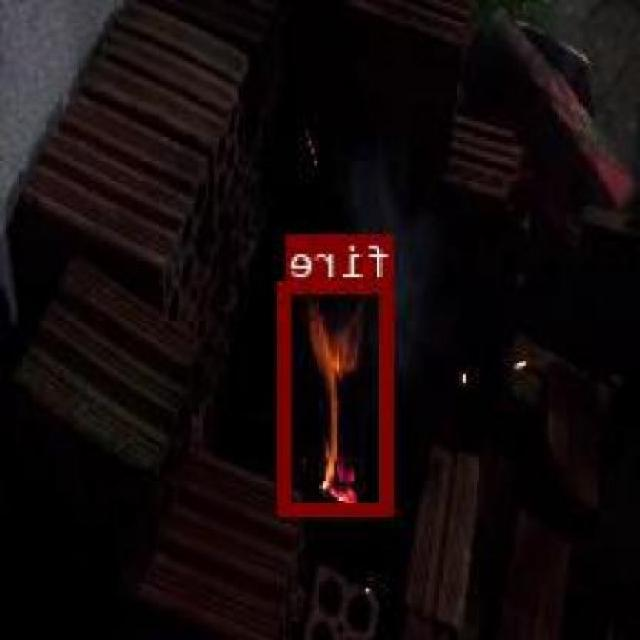fire: (280, 279, 397, 513)
